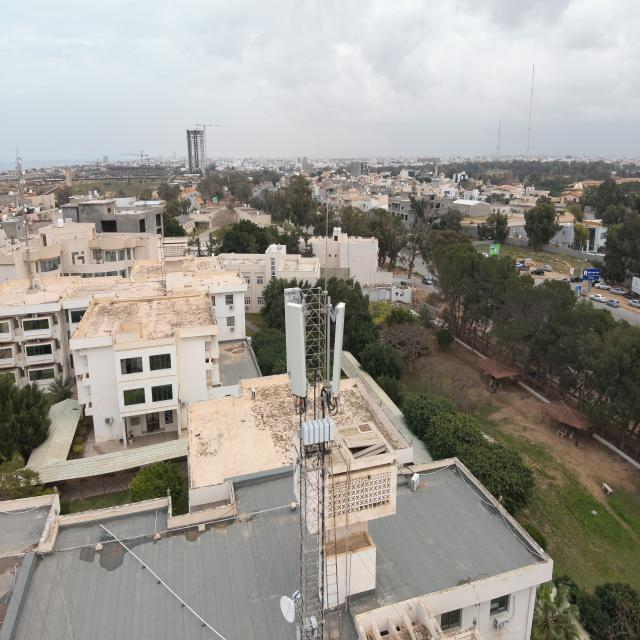antenna: (285, 302, 310, 401), (329, 302, 348, 398), (284, 287, 302, 377)
lighnig-rad: (325, 196, 329, 298)
microware-dish: (278, 590, 302, 625)
power-box: (296, 616, 318, 639)
radio-unit: (298, 416, 335, 445)
